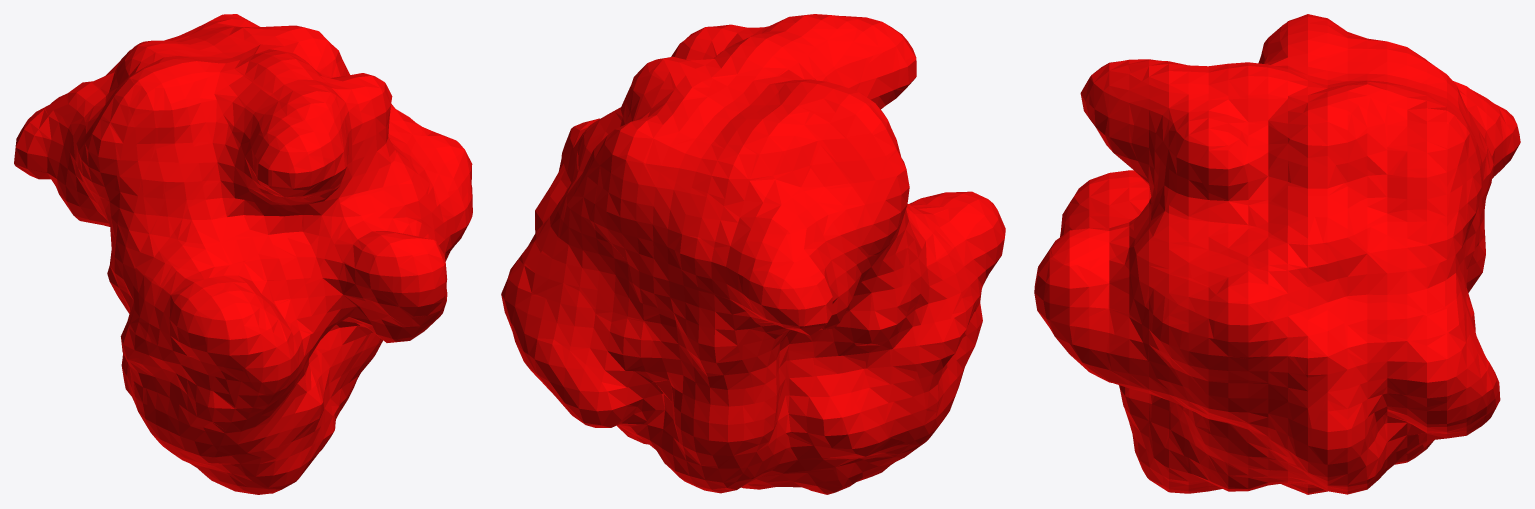
Rendered from aceB_coarse.dae.
3 renders of one model, left to right at view 1: azimuth 30°, elevation 25°; view 2: azimuth 150°, elevation 25°; view 3: azimuth 270°, elevation 25°, orthographic. The views are drawn at different scales.
Visible parts, largest first — view 1: aceB; view 2: aceB; view 3: aceB.
Boxes of the visible parts, x1,y1,x2,y2 form: aceB: [14, 14, 472, 494]; aceB: [501, 14, 1005, 494]; aceB: [1034, 14, 1520, 494].
Bounding box in the file's own units: 59.59 × 64.95 × 63.61.
